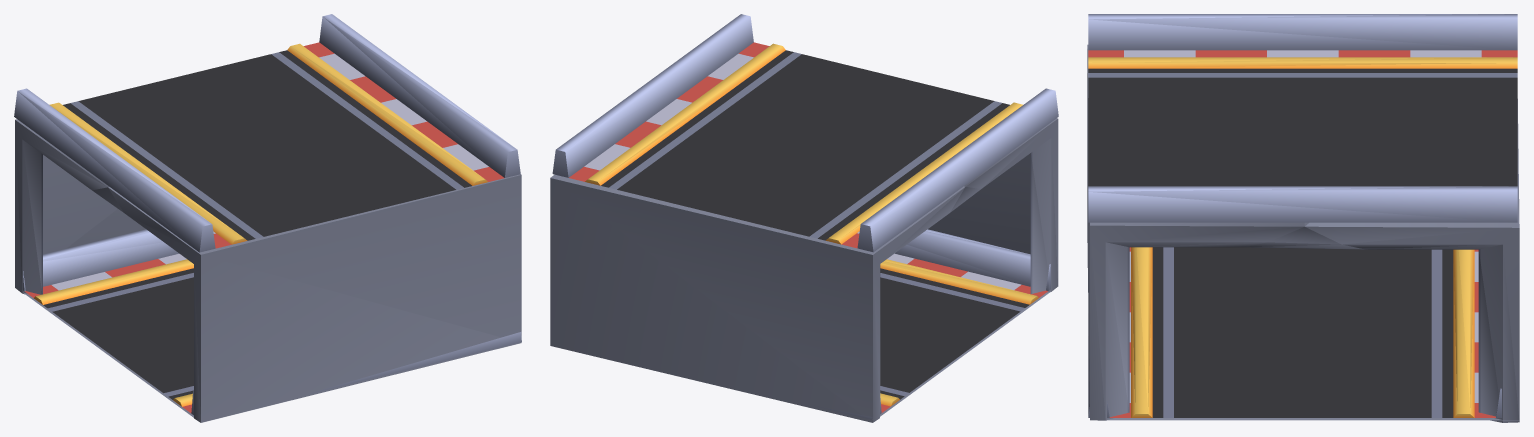
File: elev-track-cross.glb
The picture shows the model from 3 angles, left to right: view 1: azimuth 30°, elevation 25°; view 2: azimuth 150°, elevation 25°; view 3: azimuth 270°, elevation 25°; orthographic projection. The views are drawn at different scales.
Parts seen in each view (by area): view 1: Plane.001; view 2: Plane.001; view 3: Plane.001.
Part boxes in pixels (x1,y1,x2,y2): Plane.001: [14, 14, 521, 422]; Plane.001: [550, 14, 1058, 422]; Plane.001: [1087, 14, 1519, 422].
Bounding box in the file's own units: 10.05 × 5.9 × 10.06.
Materials: 3 (3 with a texture image).
